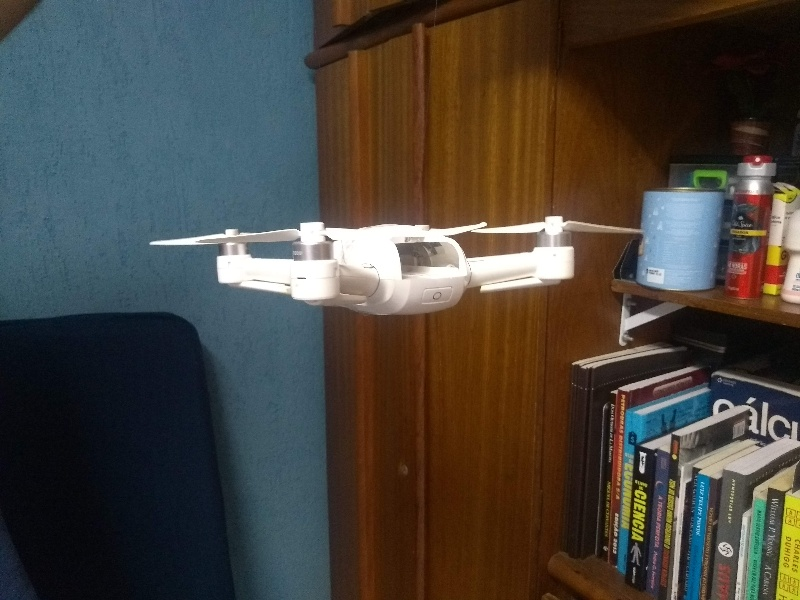drone: (149, 207, 644, 331)
